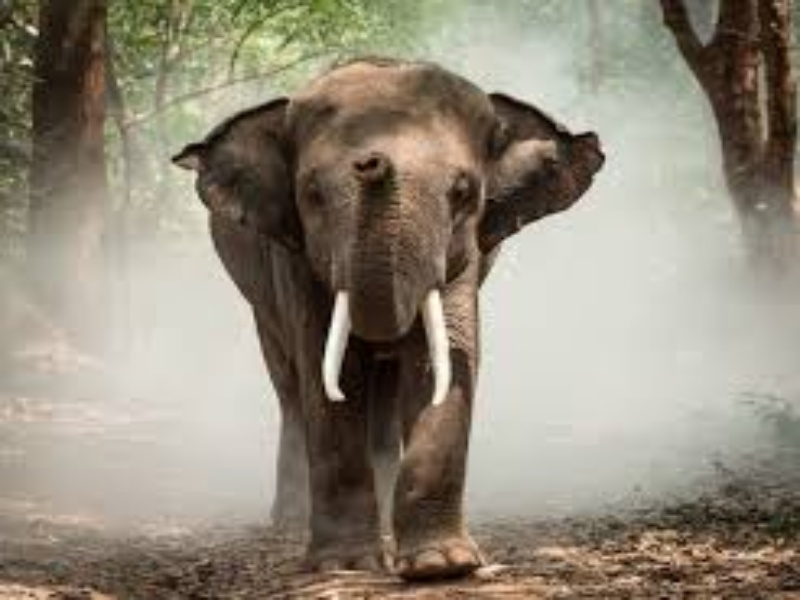elephant: (141, 43, 584, 582)
